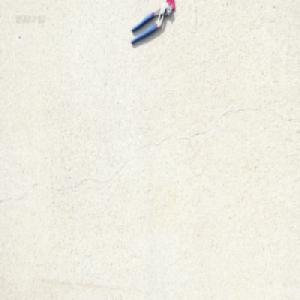Label: (165, 0, 178, 13)
Pliers: (130, 1, 173, 46)
